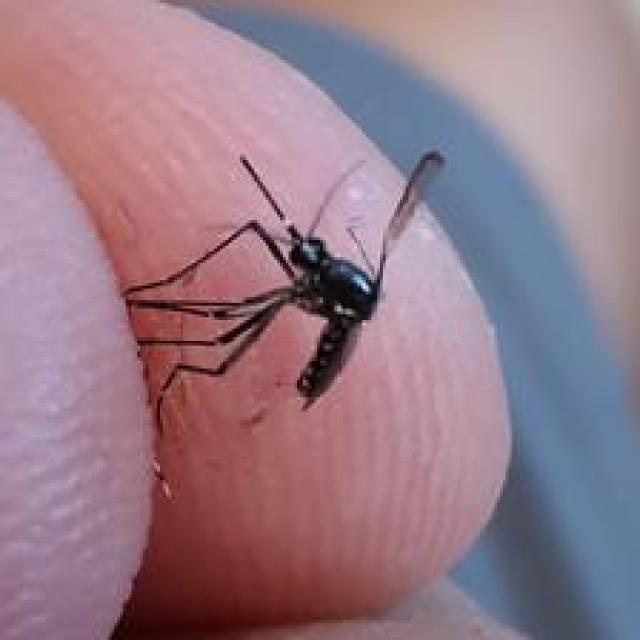Aedes albopictus: (122, 147, 447, 419)
